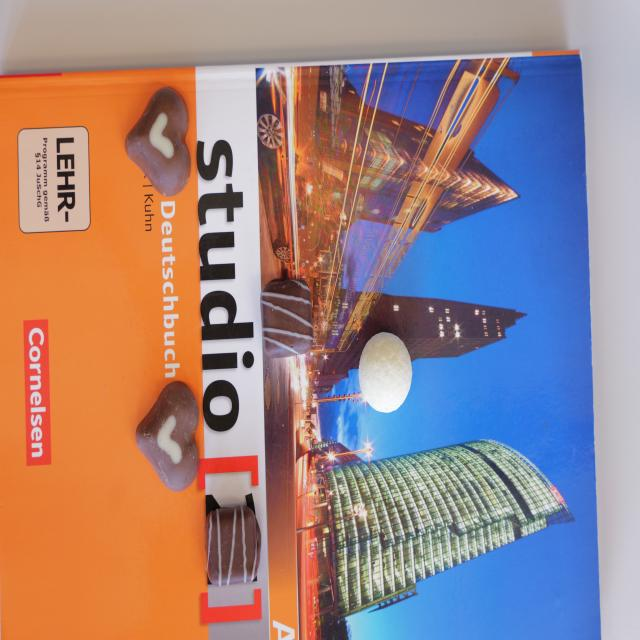Comtesse: (360, 332, 412, 413)
Passion_au_lait: (136, 381, 200, 490), (125, 88, 190, 195)
Stracciatella: (261, 277, 314, 361), (206, 508, 262, 586)
